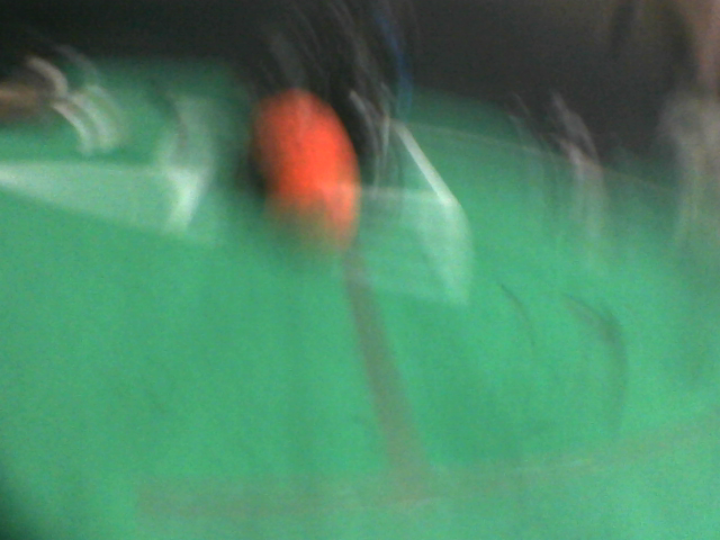bola: (245, 95, 367, 253)
